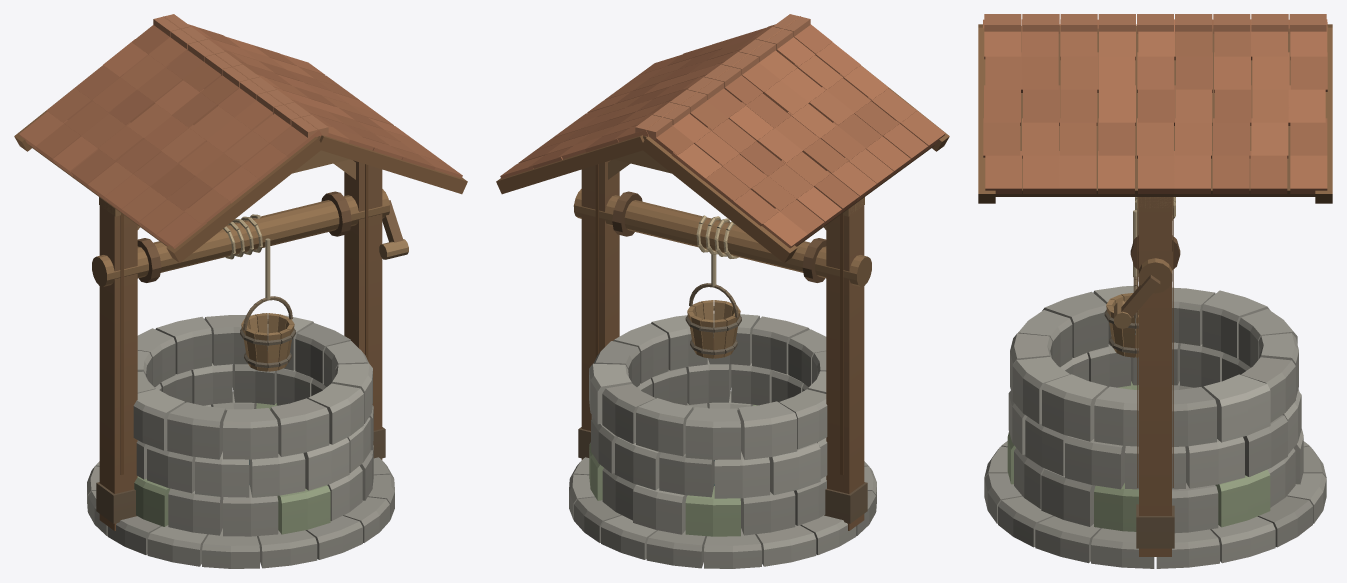
File: well.glb
3 renders of one model, left to right at view 1: azimuth 30°, elevation 25°; view 2: azimuth 150°, elevation 25°; view 3: azimuth 270°, elevation 25°, orthographic. The views are drawn at different scales.
Visible parts, largest first — view 1: well; view 2: well; view 3: well.
Part boxes in pixels (left/top/right/bottom): well: left=14, top=14, right=467, bottom=568; well: left=496, top=14, right=949, bottom=568; well: left=978, top=14, right=1332, bottom=568.
Size of the model in its own units: 2.3 by 3.2 by 2.15.
